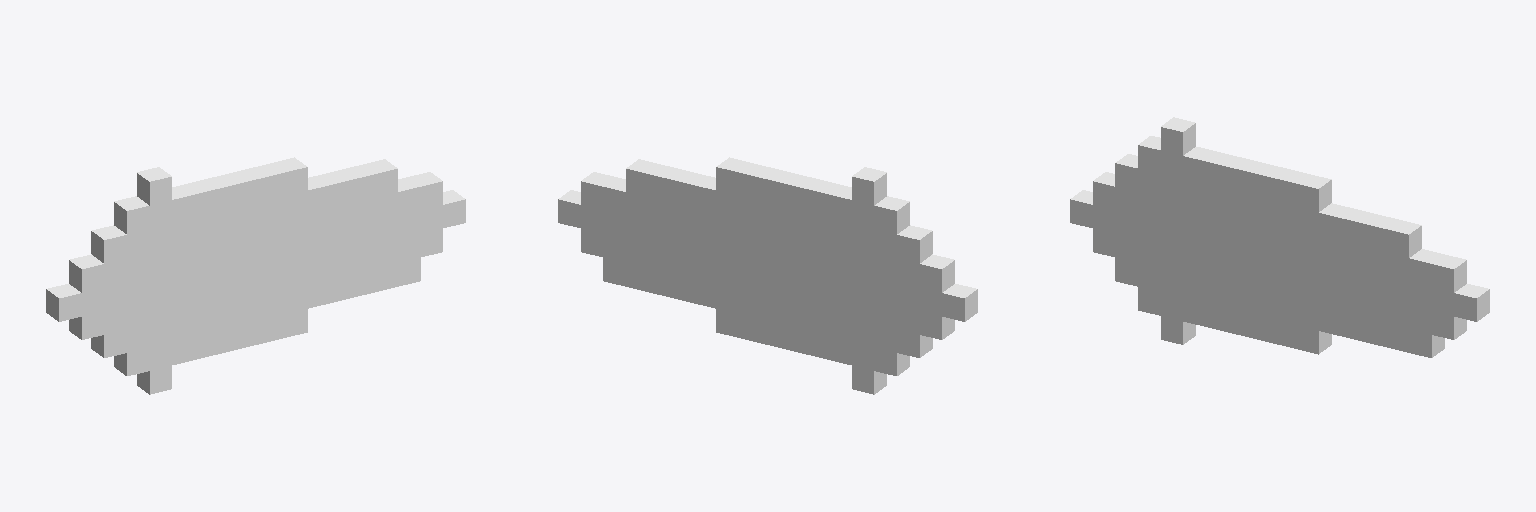
File: BossBullet.obj
3 renders of one model, left to right at view 1: azimuth 30°, elevation 25°; view 2: azimuth 150°, elevation 25°; view 3: azimuth 330°, elevation 25°, orthographic.
Parts seen in each view (by area): view 1: object 1; view 2: object 1; view 3: object 1.
Boxes of the visible parts, box(x1,y1,x2,y2) form: object 1: box(46, 157, 465, 394); object 1: box(558, 157, 977, 394); object 1: box(1070, 117, 1489, 357).
Bounding box in the file's own units: 1.8 × 0.9 × 0.1.